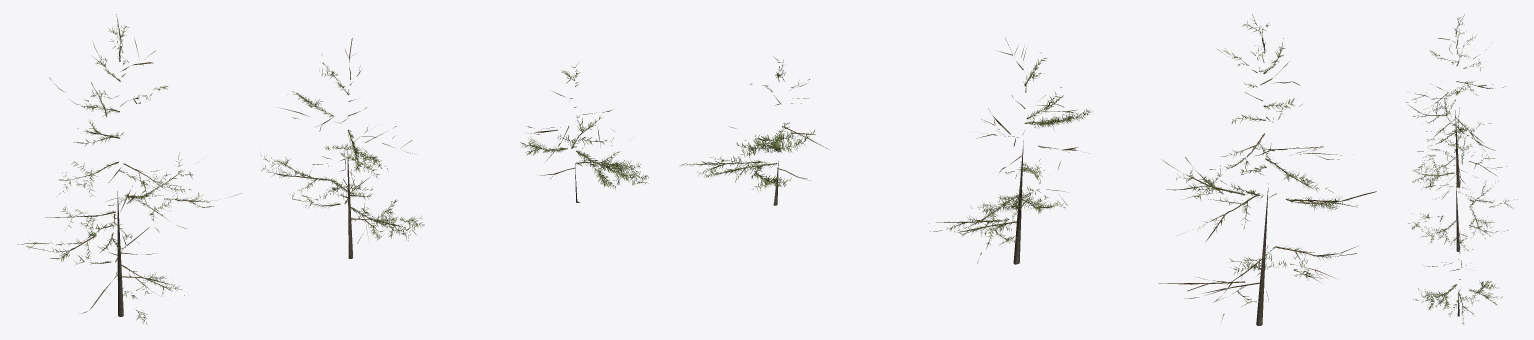
Rendered from fir-sapling-lod1.glb.
The picture shows the model from 3 angles, left to right: view 1: azimuth 30°, elevation 25°; view 2: azimuth 150°, elevation 25°; view 3: azimuth 270°, elevation 25°; orthographic projection. The views are drawn at different scales.
Visible parts, largest first — view 1: fir_sapling_a, fir_sapling_b, fir_sapling_c; view 2: fir_sapling_a, fir_sapling_b, fir_sapling_c; view 3: fir_sapling_a, fir_sapling_b, fir_sapling_c.
Part boxes in pixels (box(x1,y1,x2,y2)): fir_sapling_a: box(18, 14, 241, 324); fir_sapling_b: box(261, 38, 424, 258); fir_sapling_c: box(520, 62, 648, 202); fir_sapling_a: box(1158, 14, 1376, 325); fir_sapling_b: box(928, 38, 1091, 264); fir_sapling_c: box(680, 56, 828, 205); fir_sapling_a: box(1406, 14, 1506, 191); fir_sapling_b: box(1408, 127, 1517, 253); fir_sapling_c: box(1413, 235, 1502, 324).
Size of the model in its own units: 2.69 by 1.25 by 0.7477.
2 materials, 2 textured.
